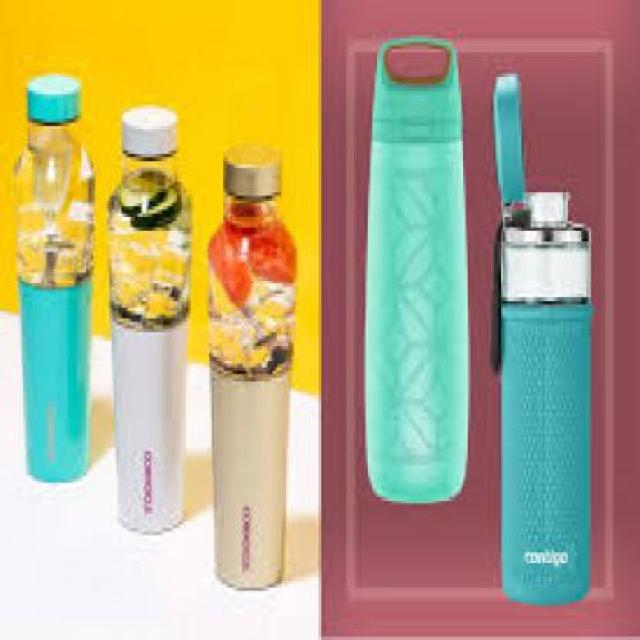Drinking: (492, 87, 610, 608), (205, 120, 322, 608), (104, 83, 200, 548), (9, 72, 103, 494)
